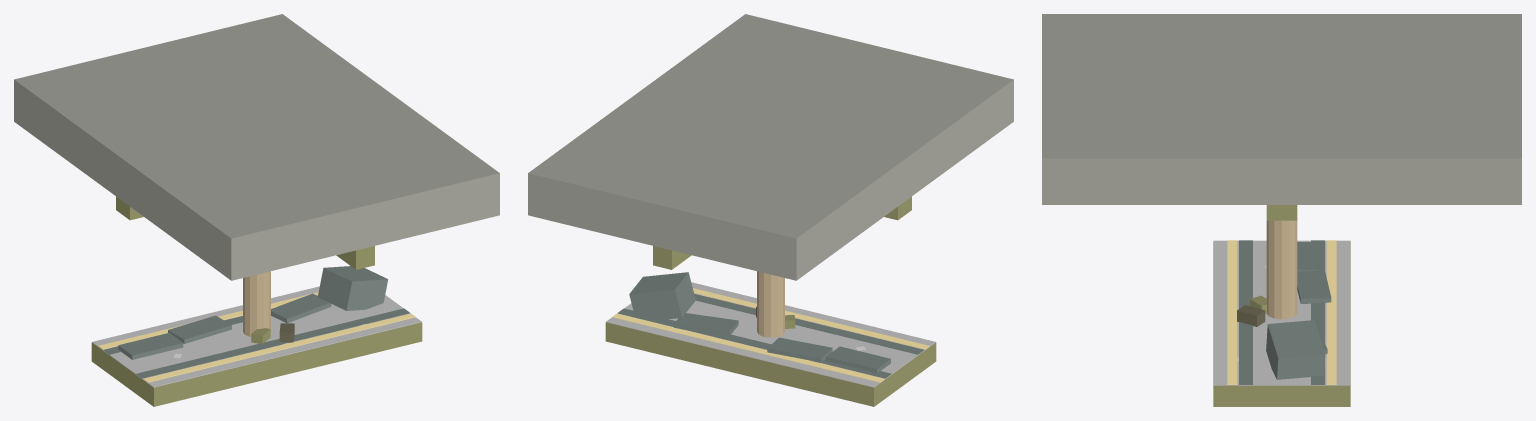
The model's file is SM_AndenLosa_Central_v3_Campamento_LOD0.fbx.
The picture shows the model from 3 angles, left to right: view 1: azimuth 30°, elevation 25°; view 2: azimuth 150°, elevation 25°; view 3: azimuth 270°, elevation 25°; orthographic projection. The views are drawn at different scales.
Parts seen in each view (by area): view 1: Losa, SM_anden_losa_v3_LOD0; view 2: Losa, SM_anden_losa_v3_LOD0; view 3: Losa, SM_anden_losa_v3_LOD0.
Part boxes in pixels (x1,y1,x2,y2): Losa: [14, 14, 499, 280]; SM_anden_losa_v3_LOD0: [91, 266, 422, 406]; Losa: [528, 14, 1013, 280]; SM_anden_losa_v3_LOD0: [605, 271, 936, 406]; Losa: [1042, 14, 1521, 220]; SM_anden_losa_v3_LOD0: [1213, 220, 1350, 406].
Bounding box in the file's own units: 9.98 × 8 × 14.
